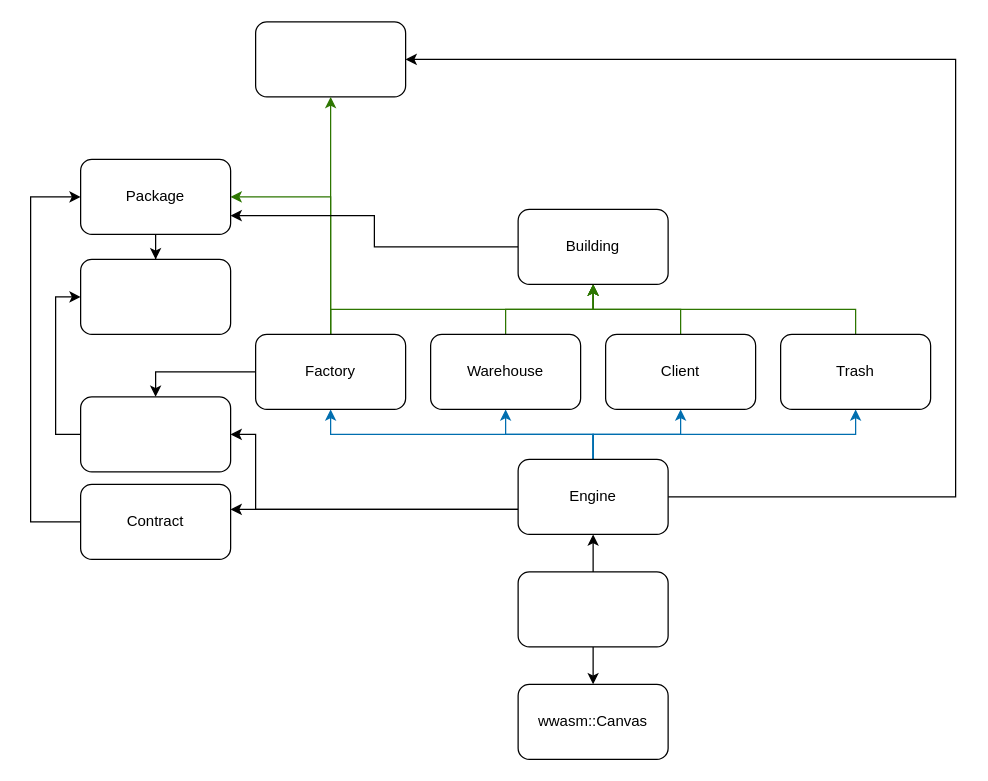
This 988x781 diagram has some shape labels left out. The shapes that lost their labels are listed below. From the top down, each one's centre as x and y in pixels, then its label:
(x=330, y=59): Core
(x=155, y=296): PackageInfo
(x=155, y=434): Request
(x=592, y=609): UiEngine
